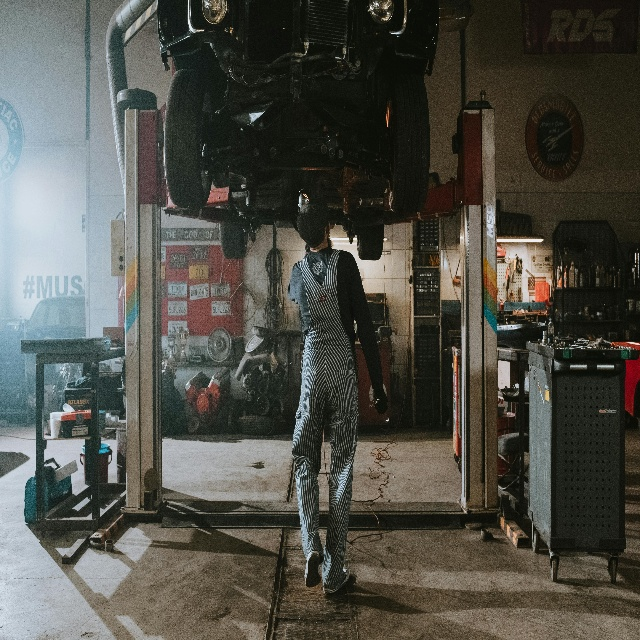Guantes: (373, 387, 388, 416)
